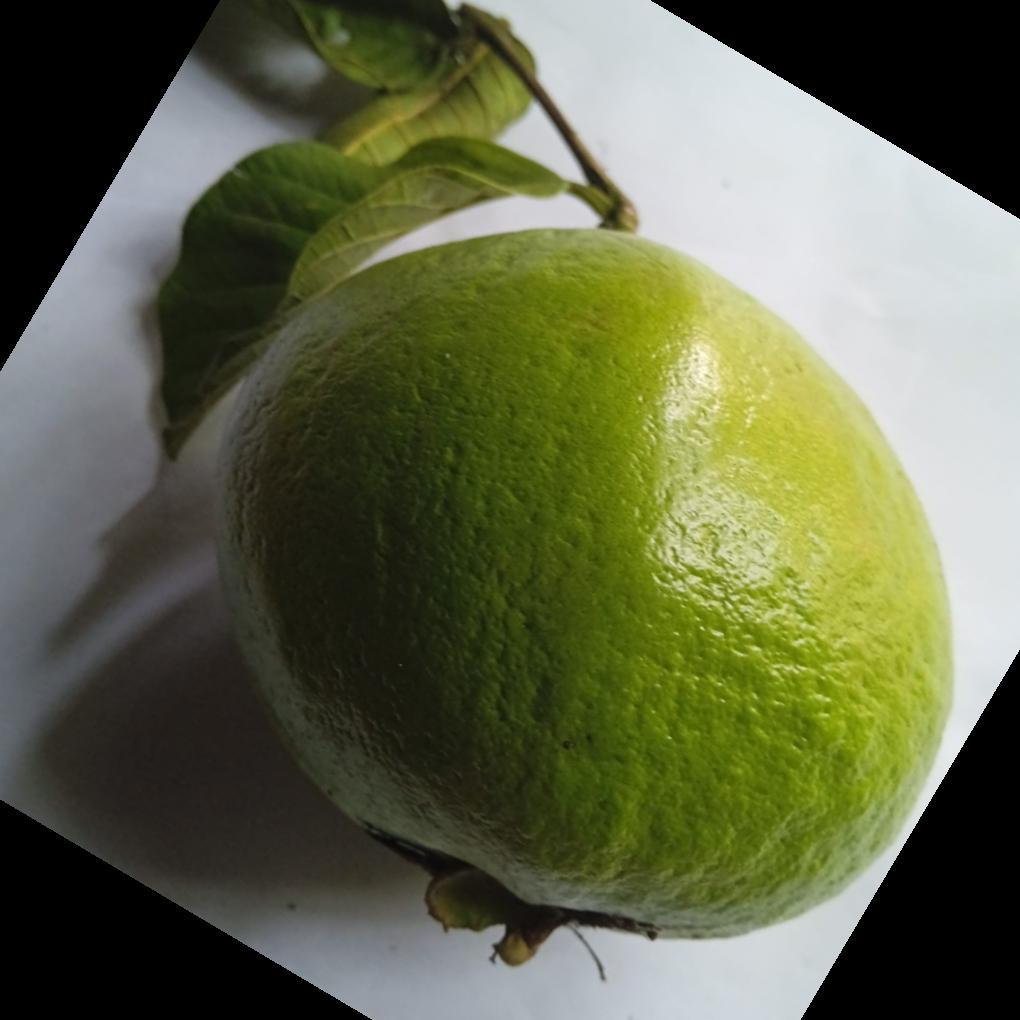FreshGuava: (212, 227, 958, 946)
